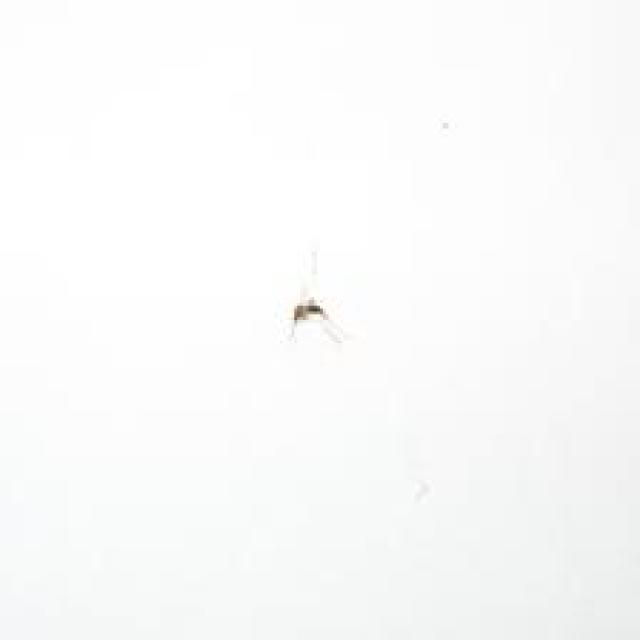Culex: (286, 247, 346, 344)
